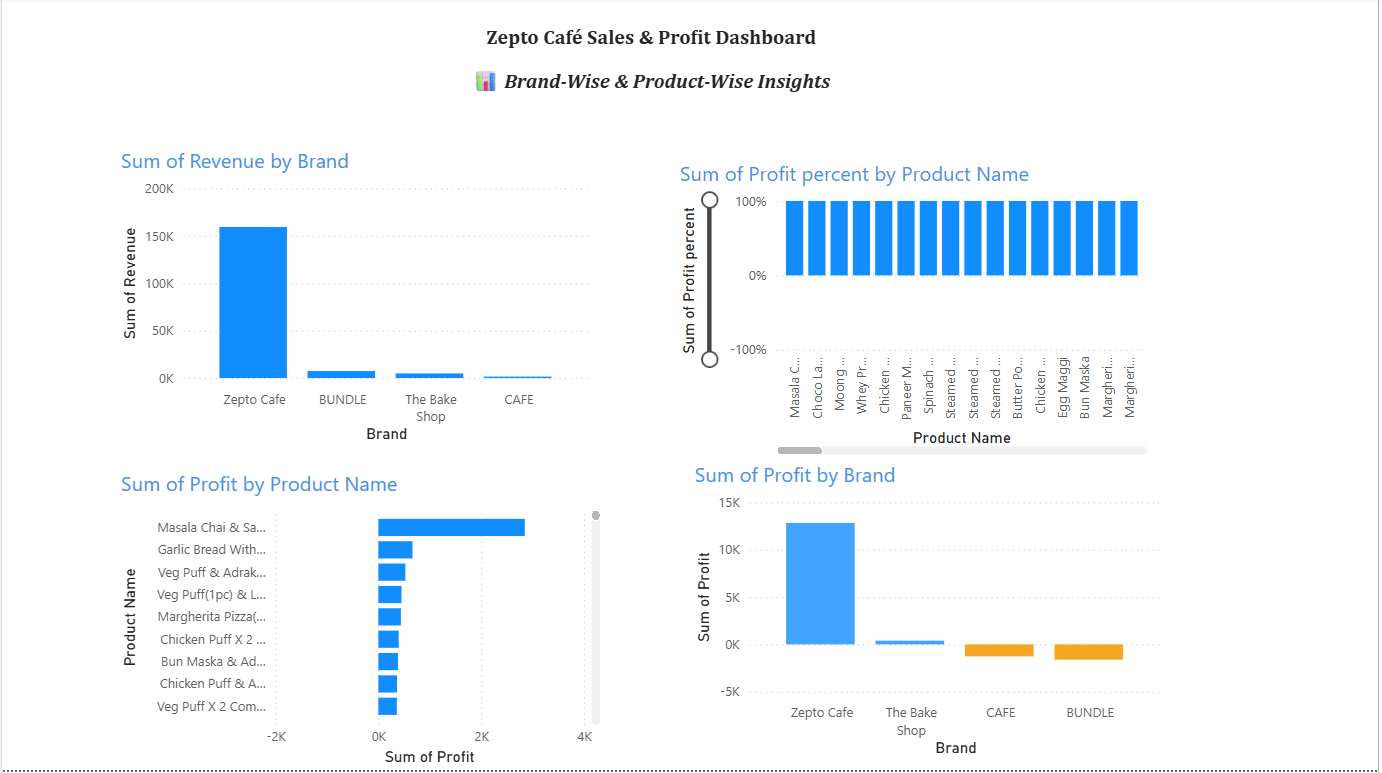

The dashboard page shown, as its layout file describes it:
{"tool":"powerbi","page":{"name":"Page 1","canvas":[1280,720],"ordinal":0},"visuals":[{"type":"clusteredColumnChart","fields":{"Category":["Zepto Cafe.Brand"],"Y":["Sum(Zepto Cafe.Revenue)"]},"box":[105.7,140,446,279.9],"z":0},{"type":"clusteredBarChart","fields":{"Y":["Sum(Zepto Cafe.Profit)"],"Category":["Zepto Cafe.Product Name"]},"box":[105.8,439.5,455.8,280.2],"z":1000},{"type":"hundredPercentStackedColumnChart","fields":{"Y":["Sum(Zepto Cafe.Profit percent)"],"Category":["Zepto Cafe.Product Name"]},"box":[625.7,151.4,444.3,280],"z":2000},{"type":"clusteredColumnChart","fields":{"Category":["Zepto Cafe.Brand"],"Y":["Sum(Zepto Cafe.Profit)"]},"box":[639.5,430.9,444.6,279.9],"z":3000},{"type":"textbox","box":[137.9,21.5,931.2,94.9],"z":4000}]}

Visuals, with their boxes in screenshot pixels (x1, y1, x2, y2), scaled from the page's 1280x720 canvas onto the 1382x773 screenshot:
clusteredColumnChart - Zepto Cafe.Brand x Sum(Zepto Cafe.Revenue): (x1=114, y1=150, x2=596, y2=451)
clusteredBarChart - Sum(Zepto Cafe.Profit) x Zepto Cafe.Product Name: (x1=114, y1=472, x2=606, y2=772)
hundredPercentStackedColumnChart - Sum(Zepto Cafe.Profit percent) x Zepto Cafe.Product Name: (x1=676, y1=163, x2=1155, y2=463)
clusteredColumnChart - Zepto Cafe.Brand x Sum(Zepto Cafe.Profit): (x1=690, y1=463, x2=1170, y2=763)
textbox: (x1=149, y1=23, x2=1154, y2=125)
